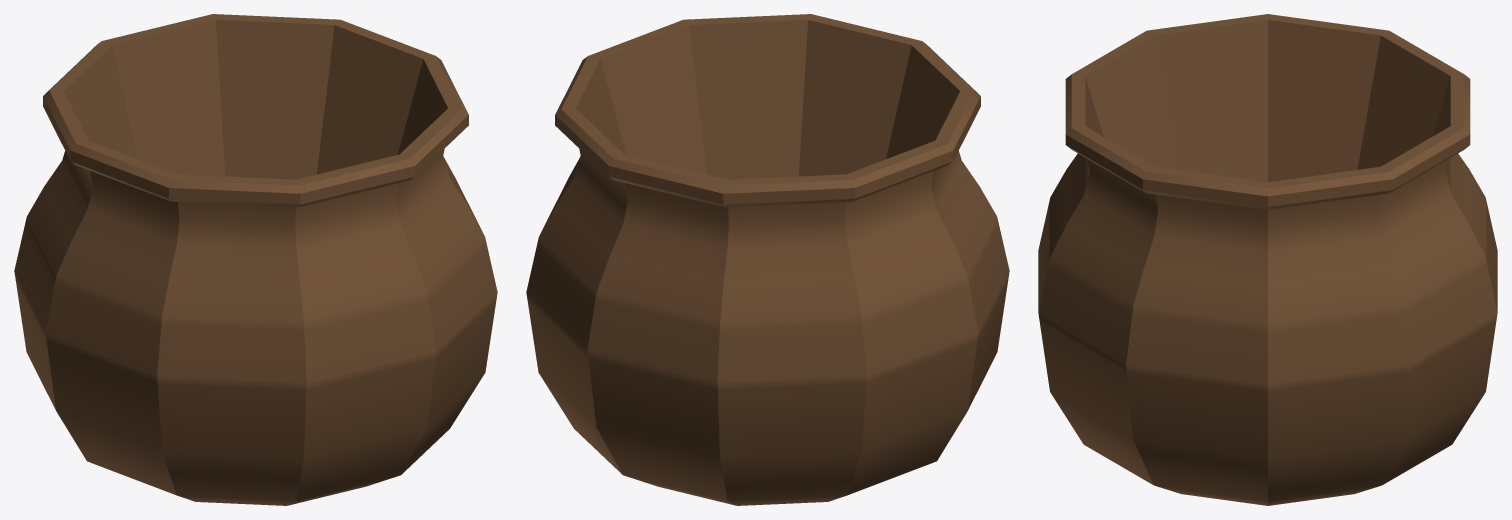
Rendered from Clay_Pot_One.fbx.
3 views of the same model, side by side, from view 1: azimuth 30°, elevation 25°; view 2: azimuth 150°, elevation 25°; view 3: azimuth 270°, elevation 25° (orthographic).
Parts seen in each view (by area): view 1: Clay_Pot_One; view 2: Clay_Pot_One; view 3: Clay_Pot_One.
Boxes of the visible parts, box(x1,y1,x2,y2) form: Clay_Pot_One: box(14, 14, 497, 505); Clay_Pot_One: box(526, 14, 1009, 505); Clay_Pot_One: box(1038, 14, 1497, 505).
Size of the model in its own units: 1.22 by 0.9563 by 1.16.
